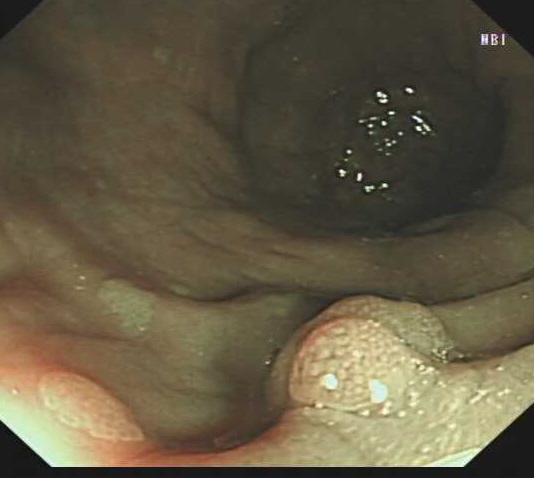others: (266, 290, 456, 438), (35, 368, 151, 446), (97, 275, 156, 339)
